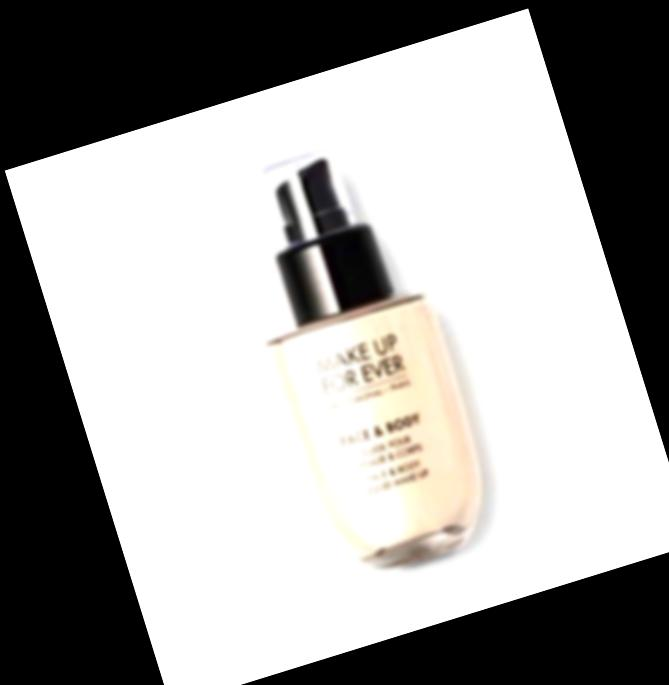cosmetic: (213, 129, 507, 588)
